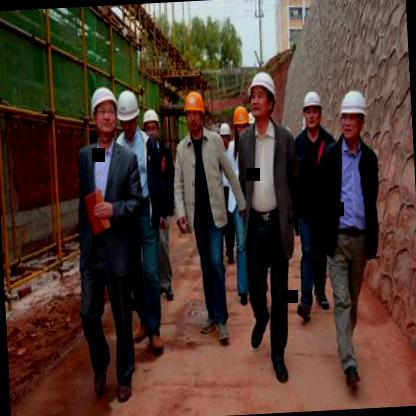helmet: (335, 86, 370, 144), (246, 65, 280, 120), (88, 82, 118, 140), (181, 90, 208, 139), (298, 86, 326, 132), (116, 89, 140, 137), (233, 103, 254, 145), (140, 104, 160, 148), (216, 118, 233, 151)
